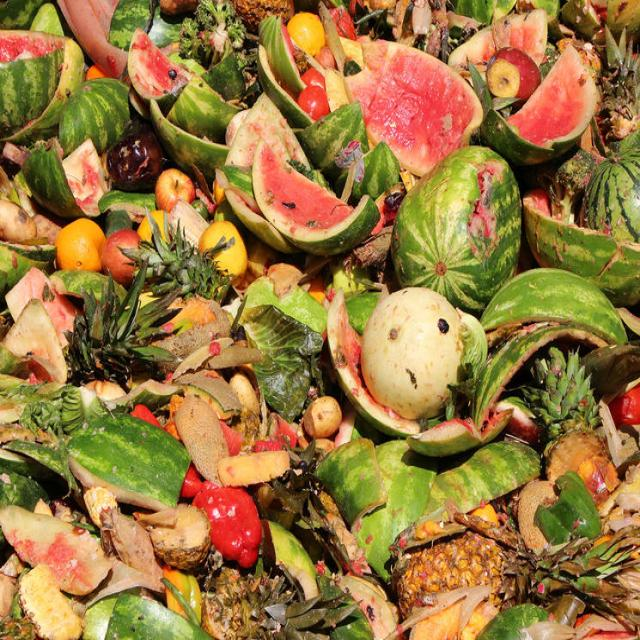food_waste: (17, 25, 620, 623), (303, 33, 597, 596), (49, 72, 341, 568), (67, 466, 585, 588)
